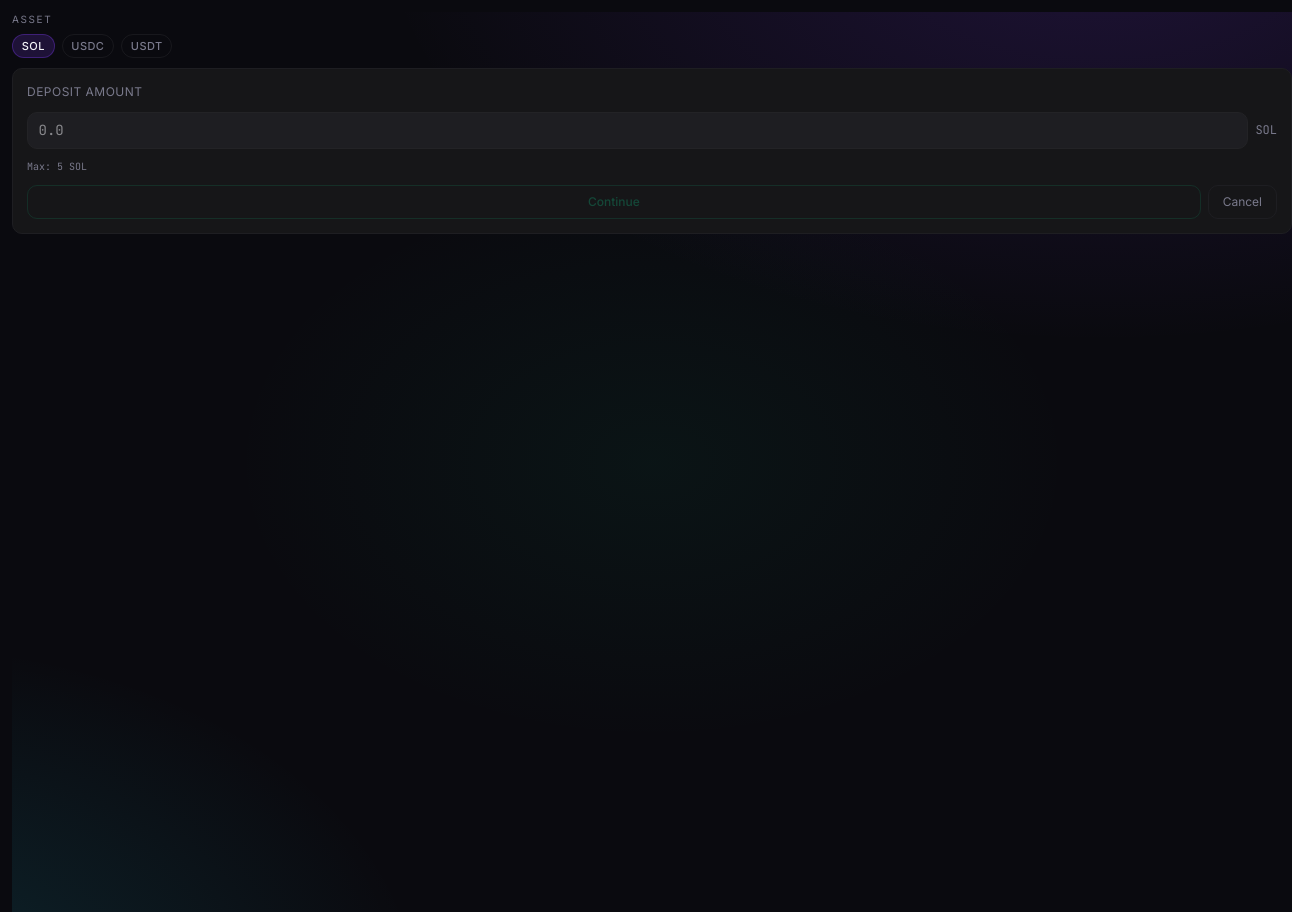
Test case: DepositForm › passes the selected asset as assetSymbol to AmountForm
Expected: the text "Max: 5 SOL" is shown, [27, 160, 87, 173]
Note: Switch to USDC — AmountForm should re-render with USDC label
Click the button "USDC" at coordinates (88, 46), box [62, 34, 114, 58]
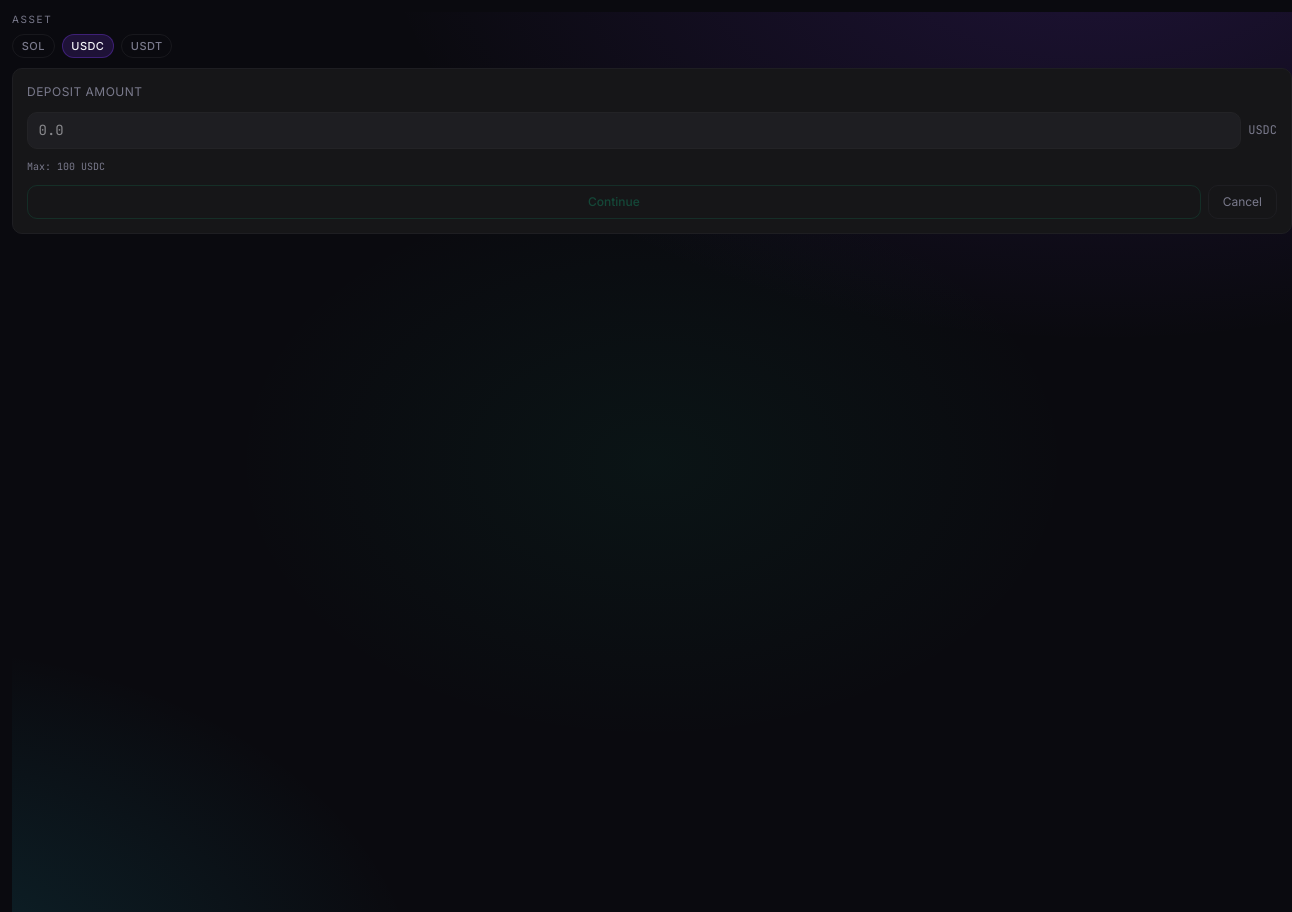
Now the text "Max: 100 USDC" is shown, box [27, 160, 105, 173]
Note: Switch to USDT — AmountForm should re-render with USDT label
Click the button "USDT" at coordinates (147, 46), box [121, 34, 172, 58]
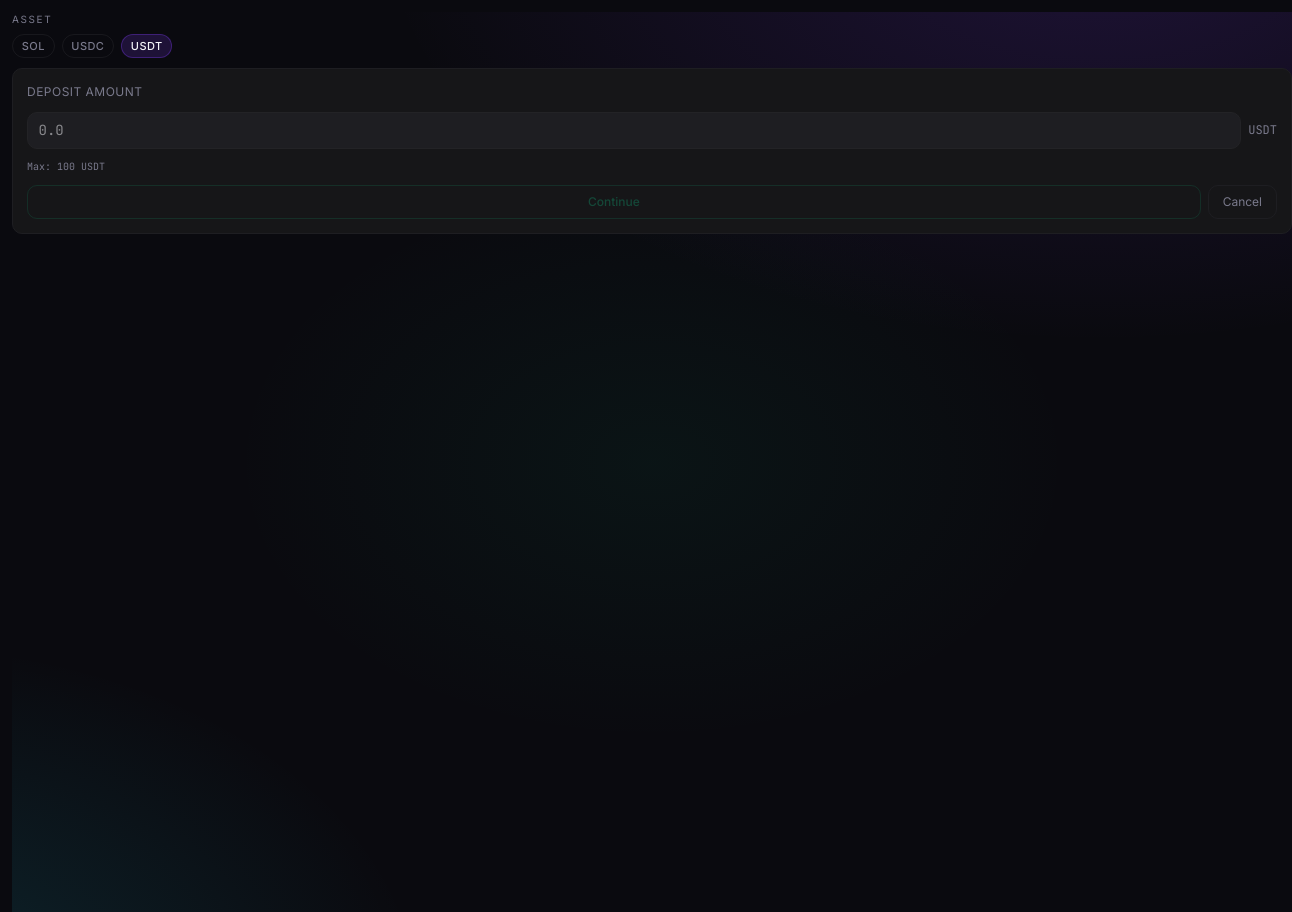
Now the text "Max: 100 USDT" is shown, box [27, 160, 105, 173]
